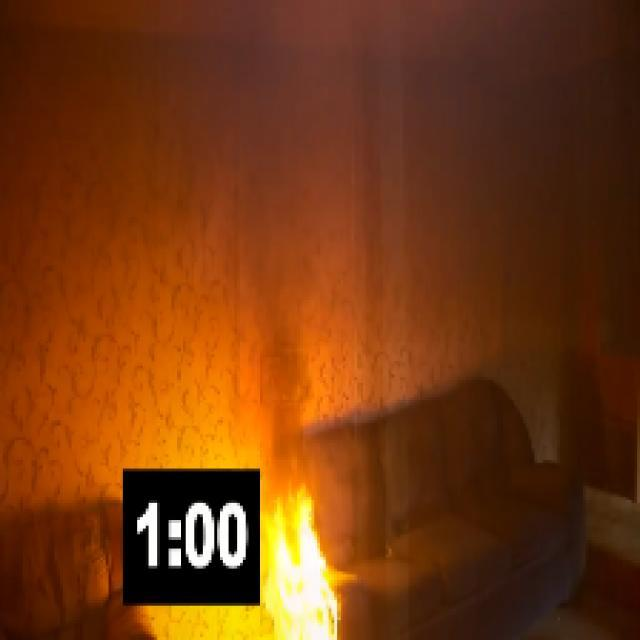Fire: (257, 502, 340, 634)
Smoke: (234, 37, 320, 463)
